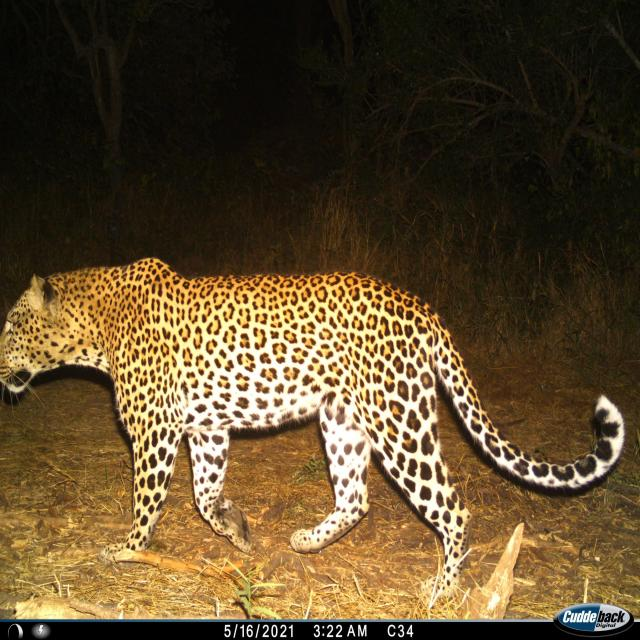Leopard: (0, 258, 640, 597)
